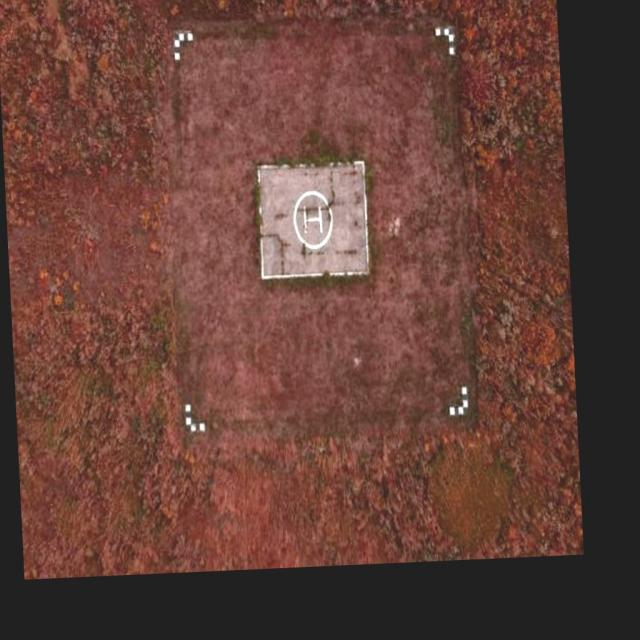helipad: (290, 188, 334, 250)
